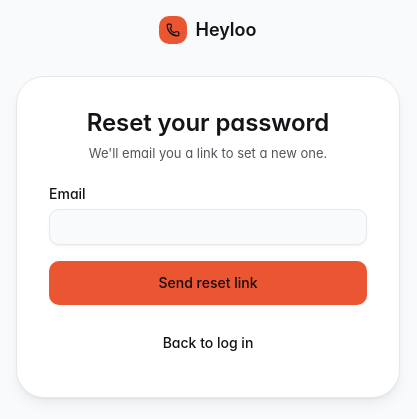
Test case: /reset-password (AUTH-10, AUTH-04) › does not reveal whether the address is registered (other errors look like a send)
Step 1. Type "owner@example.com" into the field labelled "Email" → (208, 227), box [49,209,367,245]
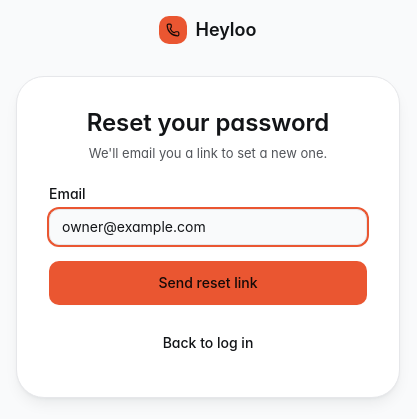
Step 2. Click the button "Send reset link" → (208, 283), box [49,261,367,305]
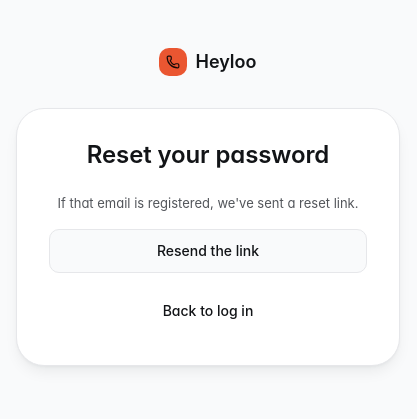
expect the text "If that email is registered, we've sent a reset link." is shown: met, box [49,194,367,213]
